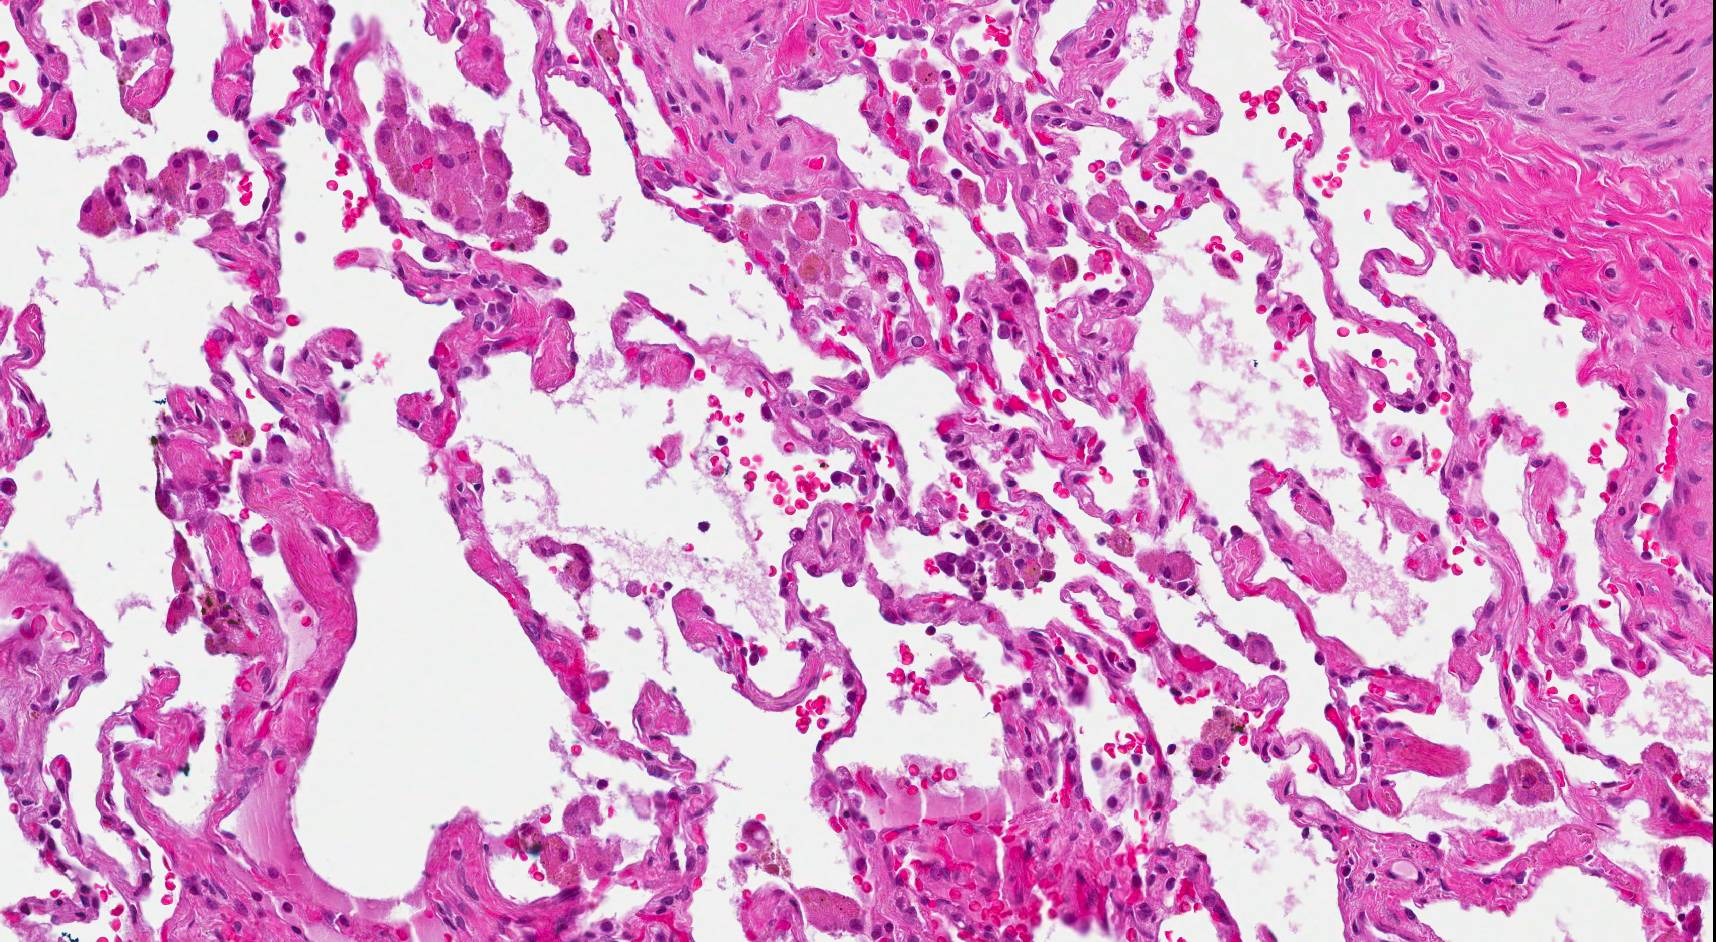stas: (933, 518, 1054, 607)
